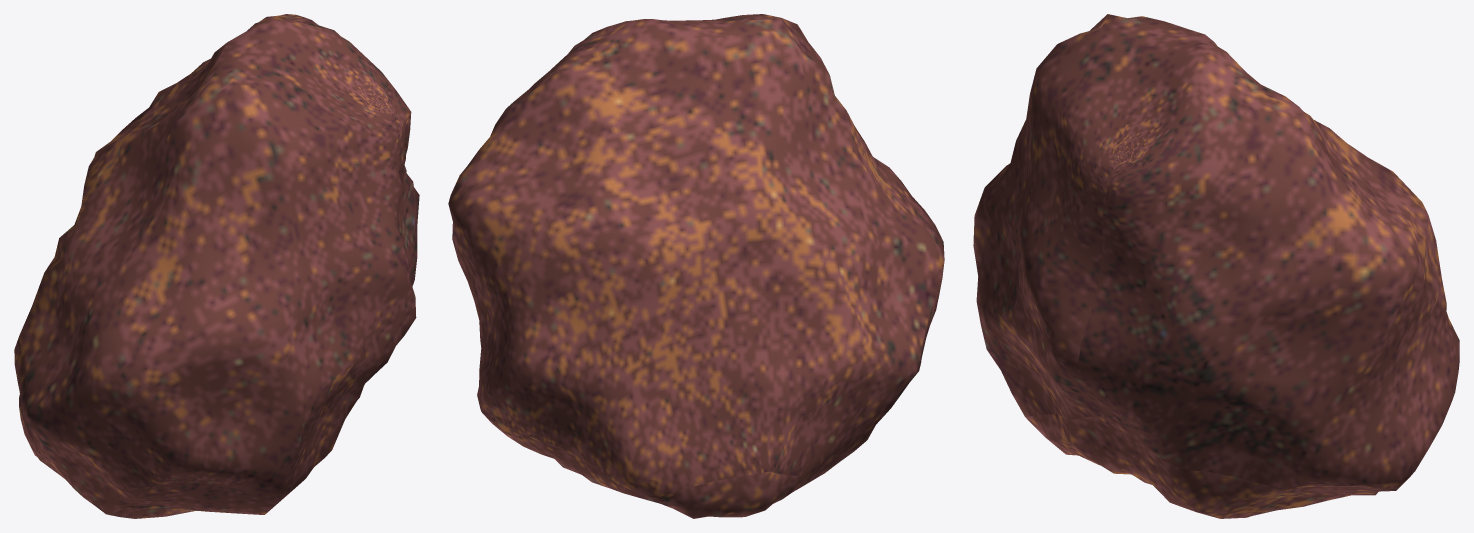
The model's file is SM_Rock_006.fbx.
3 views of the same model, side by side, from view 1: azimuth 30°, elevation 25°; view 2: azimuth 150°, elevation 25°; view 3: azimuth 270°, elevation 25° (orthographic). The views are drawn at different scales.
Visible parts, largest first — view 1: rock.006; view 2: rock.006; view 3: rock.006.
Part boxes in pixels (x1,y1,x2,y2): rock.006: (14,14,419,518); rock.006: (448,14,944,518); rock.006: (973,14,1459,518).
Bounding box in the file's own units: 2.44 × 2.42 × 2.62.
